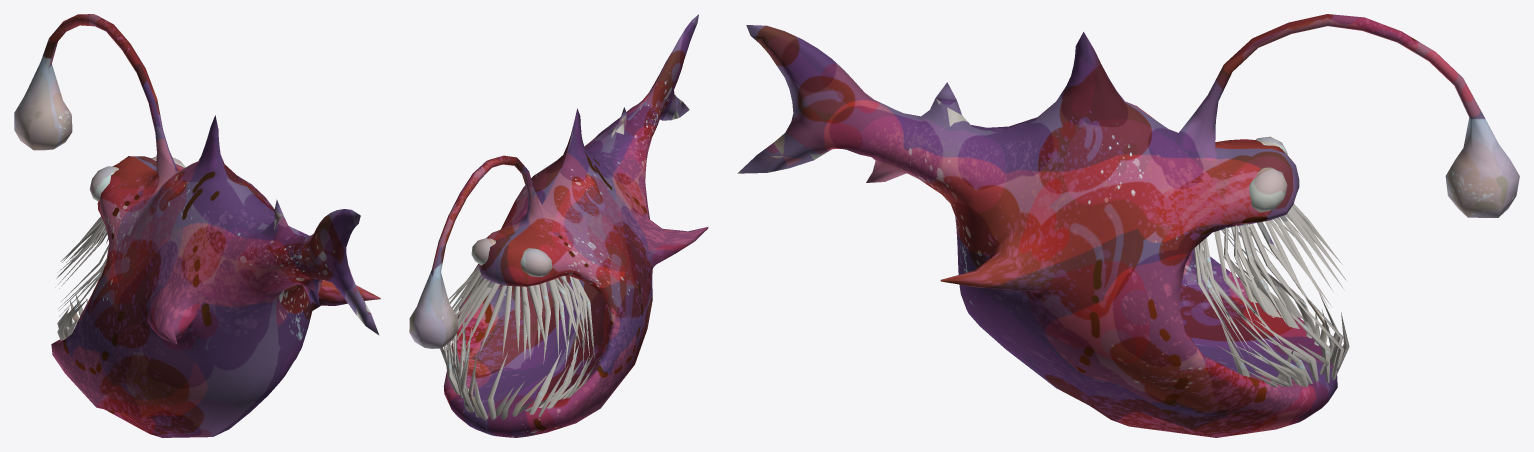
File: Angler.fbx
3 views of the same model, side by side, from view 1: azimuth 30°, elevation 25°; view 2: azimuth 150°, elevation 25°; view 3: azimuth 270°, elevation 25° (orthographic). The views are drawn at different scales.
Visible parts, largest first — view 1: Angler_Fish; view 2: Angler_Fish; view 3: Angler_Fish.
Part boxes in pixels (x1,y1,x2,y2): Angler_Fish: (14, 14, 380, 437); Angler_Fish: (409, 14, 708, 437); Angler_Fish: (737, 14, 1519, 437).
Bounding box in the file's own units: 189 × 314 × 548.
Materials: 1 (1 with a texture image).
